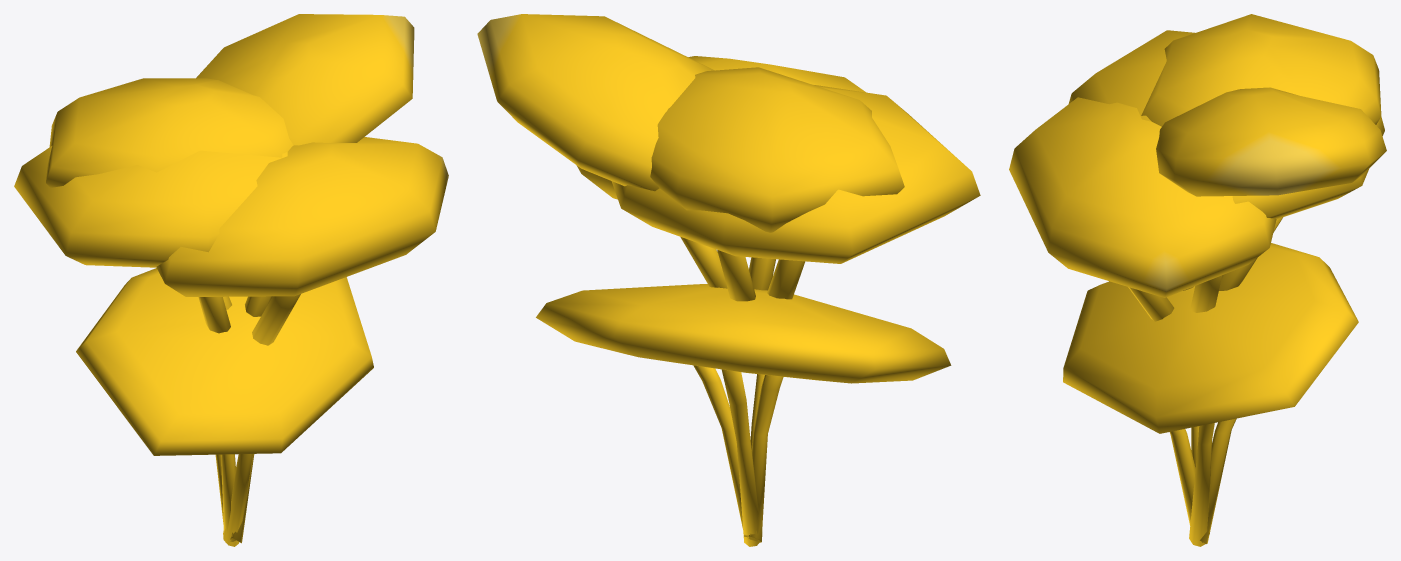
The model's file is yellowPlant.glb.
The picture shows the model from 3 angles, left to right: view 1: azimuth 30°, elevation 25°; view 2: azimuth 150°, elevation 25°; view 3: azimuth 270°, elevation 25°; orthographic projection. The views are drawn at different scales.
Parts seen in each view (by area): view 1: node_id106; view 2: node_id106; view 3: node_id106.
Part boxes in pixels (<box>): node_id106: <box>14,14,448,546</box>; node_id106: <box>477,14,980,546</box>; node_id106: <box>1009,14,1386,546</box>.
Size of the model in its own units: 0.0799 by 0.0876 by 0.059.
Materials: 1 (1 with a texture image).
